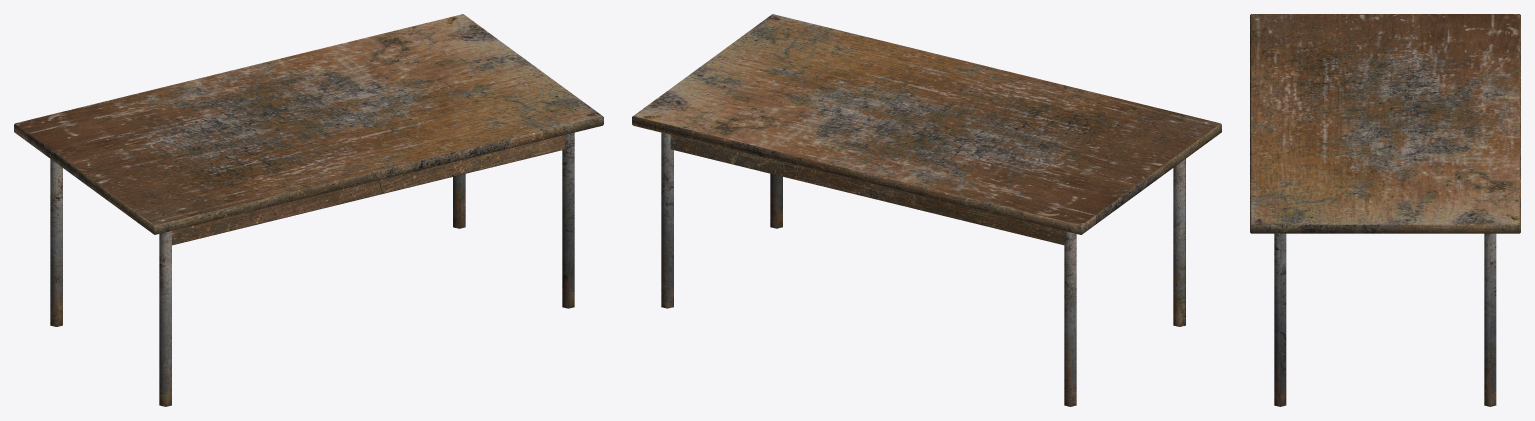
Rendered from Table.FBX.
3 renders of one model, left to right at view 1: azimuth 30°, elevation 25°; view 2: azimuth 150°, elevation 25°; view 3: azimuth 270°, elevation 25°, orthographic. The views are drawn at different scales.
Visible parts, largest first — view 1: _Table; view 2: _Table; view 3: _Table.
Boxes of the visible parts, box(x1,y1,x2,y2) form: _Table: box(14, 14, 603, 406); _Table: box(632, 14, 1221, 406); _Table: box(1250, 14, 1520, 406).
Bounding box in the file's own units: 215 × 89.39 × 116.
1 material, 1 textured.
